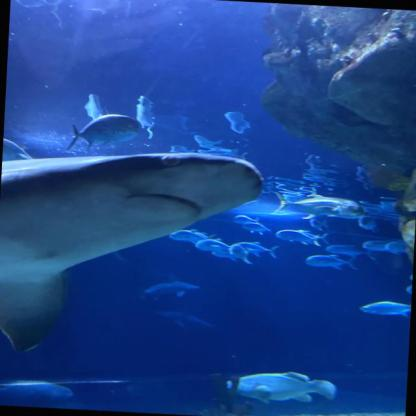fish: (225, 368, 335, 409), (66, 110, 140, 155), (271, 192, 367, 224), (0, 377, 75, 409), (359, 300, 411, 321), (325, 243, 378, 261), (305, 254, 359, 271), (2, 137, 33, 165), (234, 241, 279, 259), (277, 229, 322, 246), (168, 229, 218, 242), (229, 244, 255, 265), (194, 238, 230, 253), (298, 230, 330, 245), (241, 222, 273, 236), (358, 216, 379, 232), (384, 240, 408, 254), (362, 239, 389, 251), (232, 215, 260, 226), (308, 219, 328, 231)
shark: (0, 139, 263, 366), (140, 272, 203, 303), (153, 308, 217, 331)
